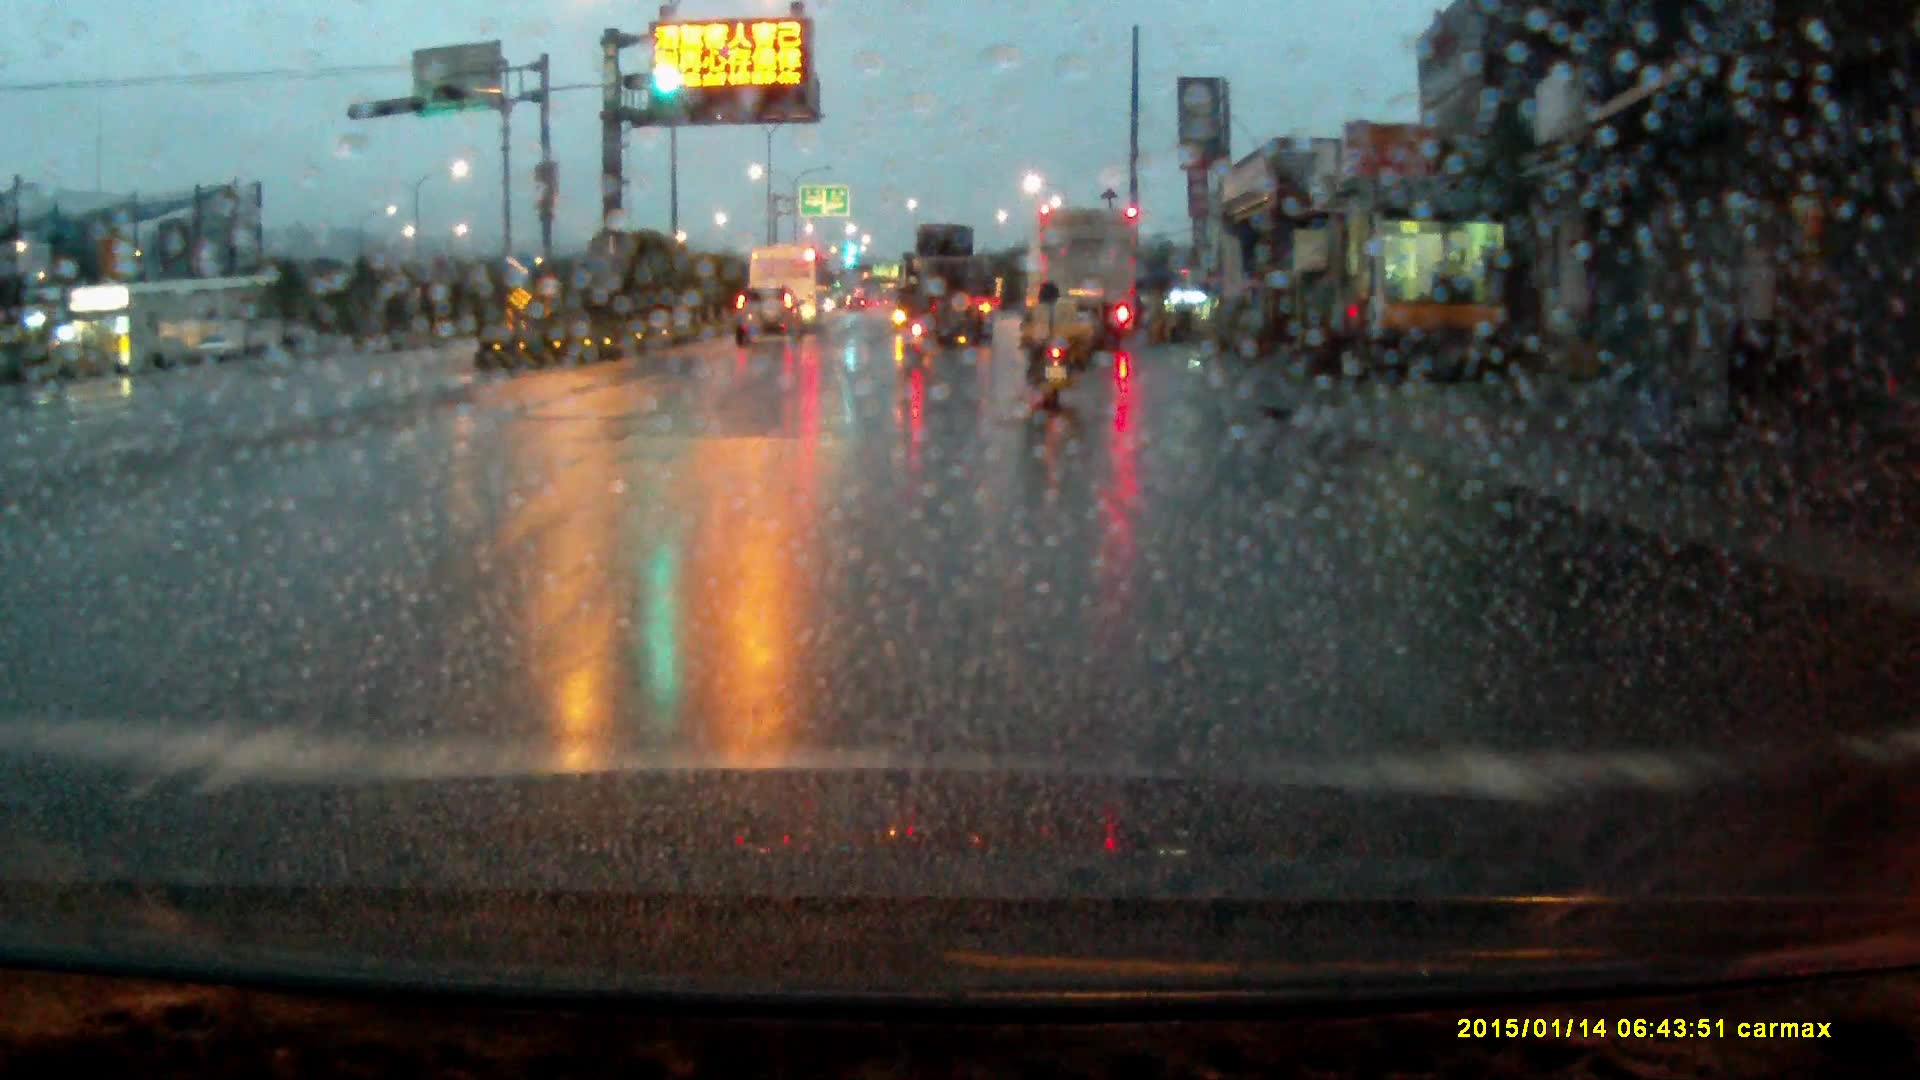rider: (1018, 281, 1087, 411), (899, 276, 936, 358)
vehicle: (1030, 202, 1135, 350), (899, 226, 998, 347), (757, 245, 831, 329), (732, 290, 806, 356)
